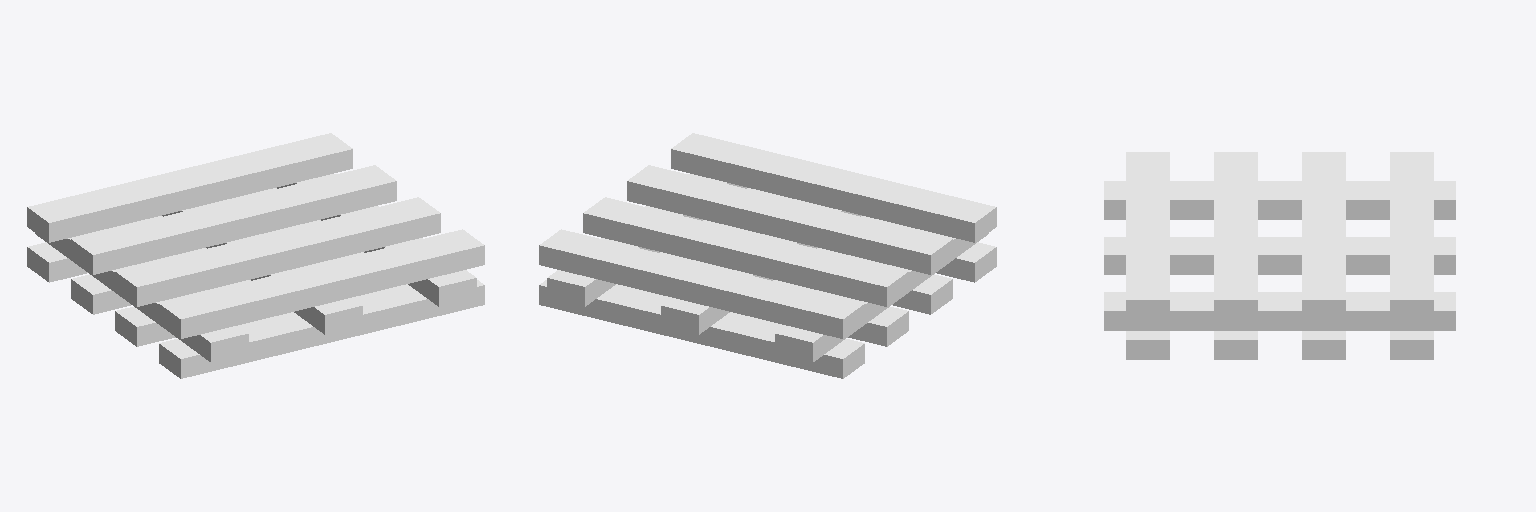
File: PalletV2.obj
3 views of the same model, side by side, from view 1: azimuth 30°, elevation 25°; view 2: azimuth 150°, elevation 25°; view 3: azimuth 270°, elevation 25° (orthographic).
Parts seen in each view (by area): view 1: object 1; view 2: object 1; view 3: object 1.
Boxes of the visible parts, <box> form: object 1: <box>27,133,484,378</box>; object 1: <box>539,133,996,378</box>; object 1: <box>1104,152,1455,359</box>.
Bounding box in the file's own units: 1.6 × 0.3 × 1.6.